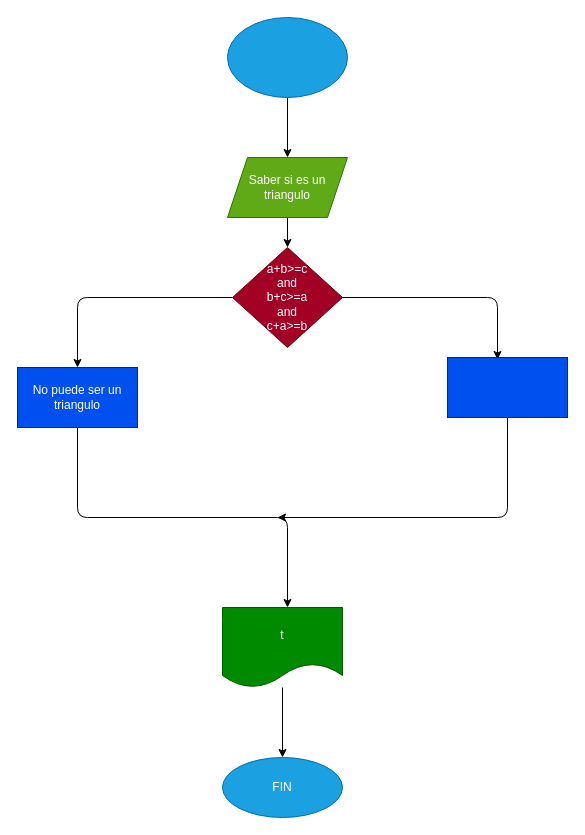
The diagram is 585 pixels wide and 835 high, and some of its shapes have lost their labels. Each missing label, with the box of its shape:
INICIO: (226, 16, 348, 98)
Si puede ser un triangulo: (446, 356, 568, 418)
